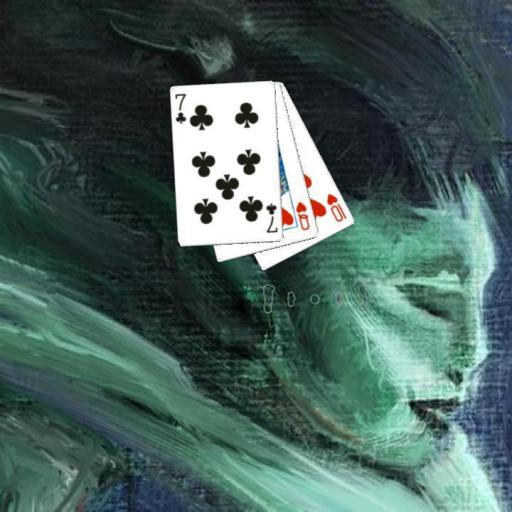card-corner: (324, 191, 348, 223), (293, 198, 311, 232), (263, 200, 280, 234), (172, 90, 188, 125)
